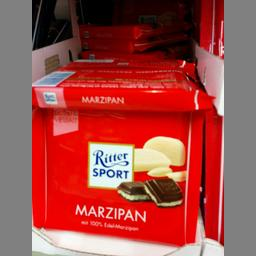chocolate: (31, 104, 202, 247), (30, 54, 212, 108)
